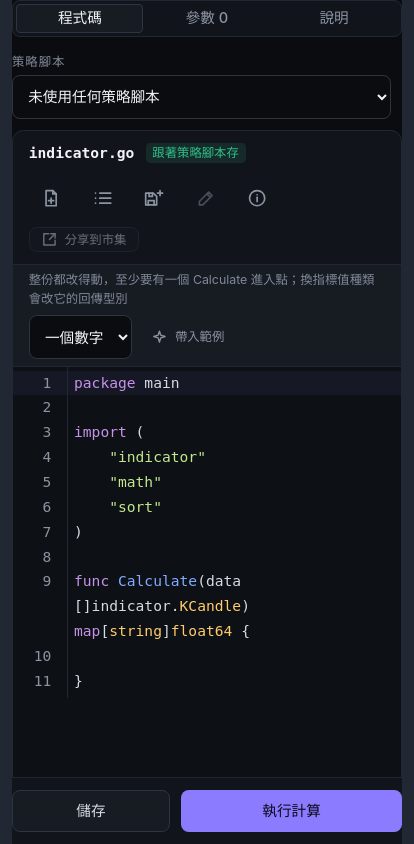
Test: 策略腳本畫面上的策略腳本：挑一支來用 › 開頭寫得與預填的不一樣時照樣原文帶入，且不出現任何提示
Select "別處寫的" in the dropdown with test id "strategy-script-picker-select" at (201, 97), box x1=12 y1=75 x2=391 y2=119
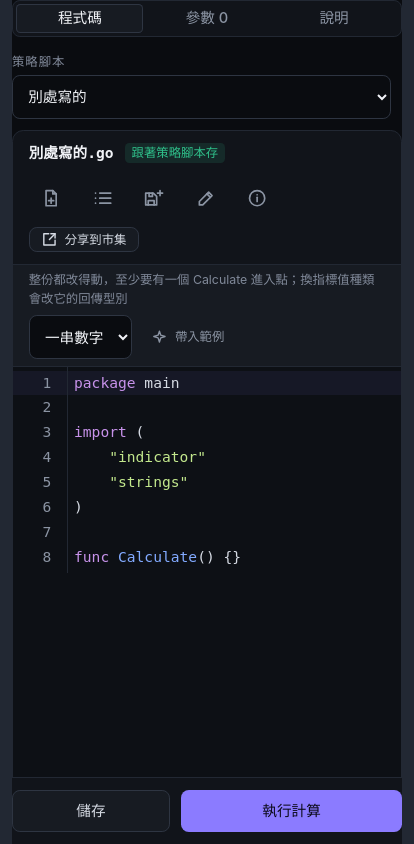
Expected: the field with class "cm-content" shows "\"strings\"", x1=68 y1=367 x2=401 y2=573
